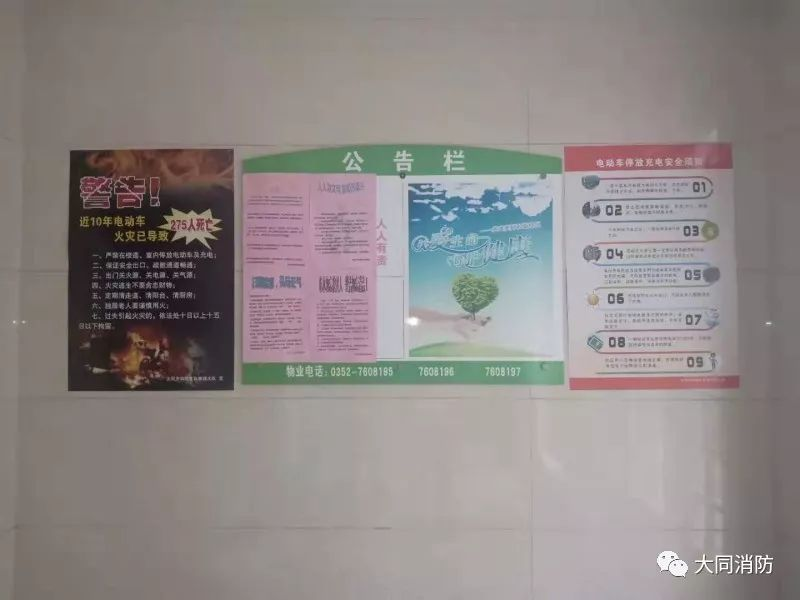bill: (565, 144, 738, 392), (68, 146, 234, 394), (408, 177, 551, 359), (242, 172, 377, 361)
